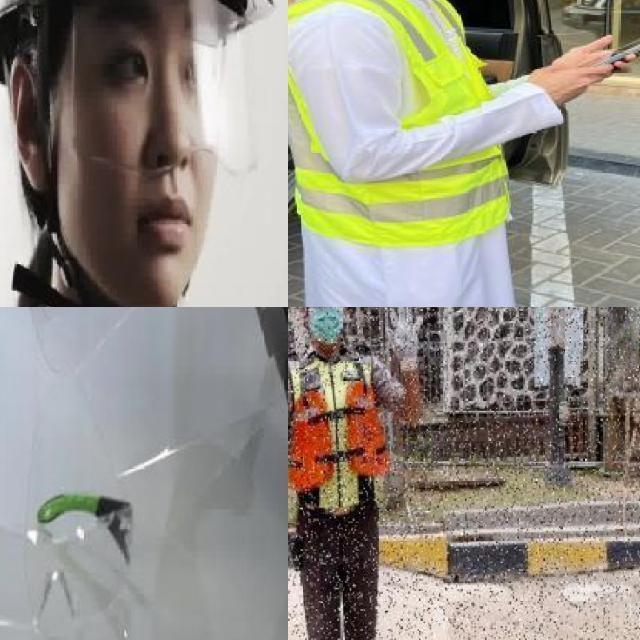apron: (381, 307, 428, 369)
